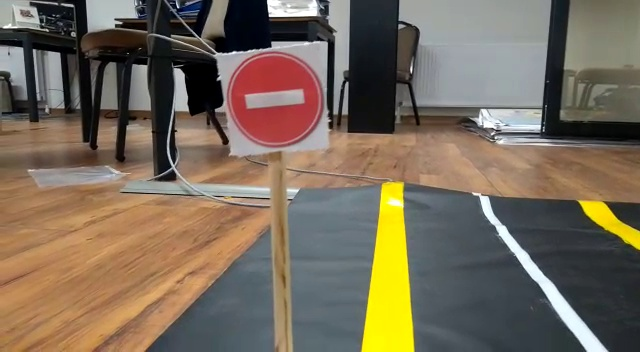girisi_olmayan_yol: (230, 46, 327, 150)
